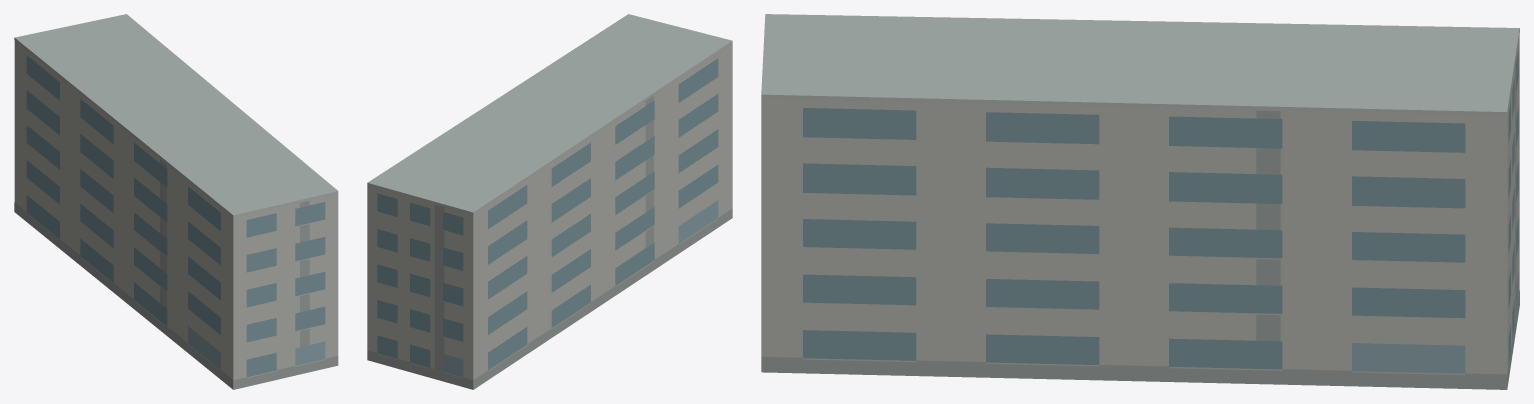
Rendered from residential-2b4d4394-b6bc-4f2b-9f04-5ed9ffd7cc28.glb.
3 renders of one model, left to right at view 1: azimuth 30°, elevation 25°; view 2: azimuth 150°, elevation 25°; view 3: azimuth 270°, elevation 25°, orthographic. The views are drawn at different scales.
Visible parts, largest first — view 1: residential-2b4d4394-b6bc-4f2b-9f04-5ed9ffd7cc28.tmp; view 2: residential-2b4d4394-b6bc-4f2b-9f04-5ed9ffd7cc28.tmp; view 3: residential-2b4d4394-b6bc-4f2b-9f04-5ed9ffd7cc28.tmp.
Boxes of the visible parts, x1,y1,x2,y2 form: residential-2b4d4394-b6bc-4f2b-9f04-5ed9ffd7cc28.tmp: (14, 14, 338, 389); residential-2b4d4394-b6bc-4f2b-9f04-5ed9ffd7cc28.tmp: (367, 14, 732, 389); residential-2b4d4394-b6bc-4f2b-9f04-5ed9ffd7cc28.tmp: (761, 14, 1519, 389).
Size of the model in its own units: 11.56 by 15.25 by 37.75.
